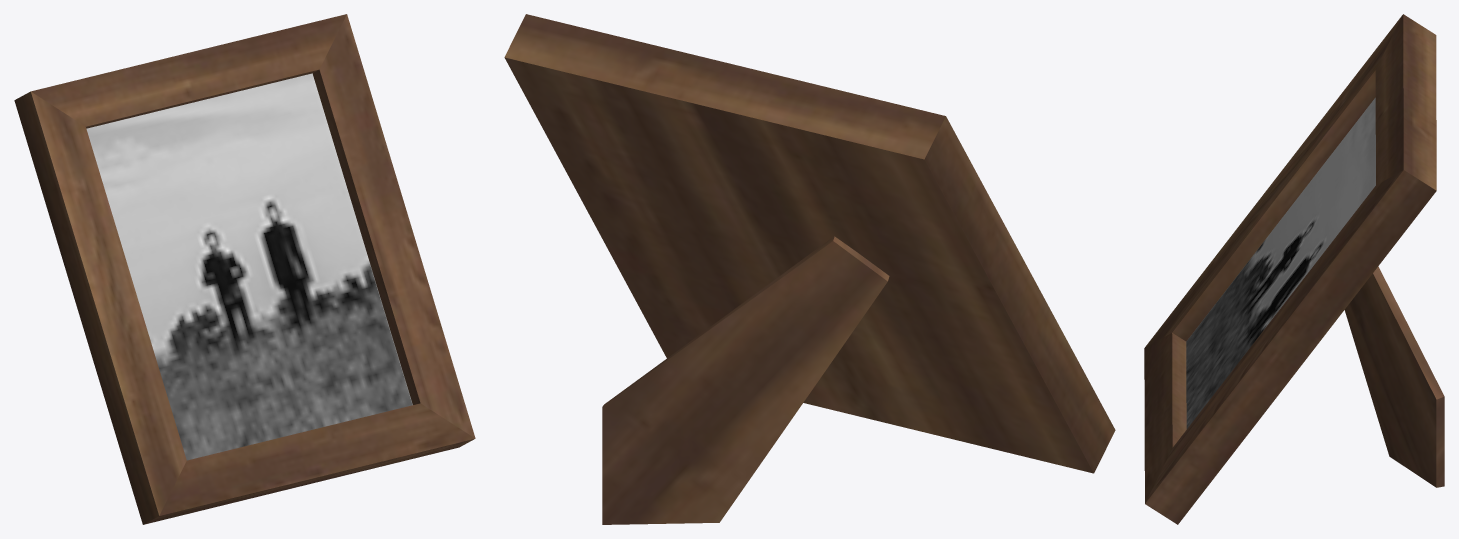
The model's file is photoframe.fbx.
3 views of the same model, side by side, from view 1: azimuth 30°, elevation 25°; view 2: azimuth 150°, elevation 25°; view 3: azimuth 270°, elevation 25° (orthographic). The views are drawn at different scales.
Visible parts, largest first — view 1: Picture frame; view 2: Picture frame, Plane.001; view 3: Picture frame, Plane.001.
Part boxes in pixels (x1,y1,x2,y2): Picture frame: (14, 14, 475, 524); Picture frame: (504, 14, 1115, 473); Plane.001: (602, 236, 889, 524); Picture frame: (1144, 14, 1436, 524); Plane.001: (1344, 266, 1444, 487).
Bounding box in the file's own units: 77.66 × 82.33 × 63.12.
